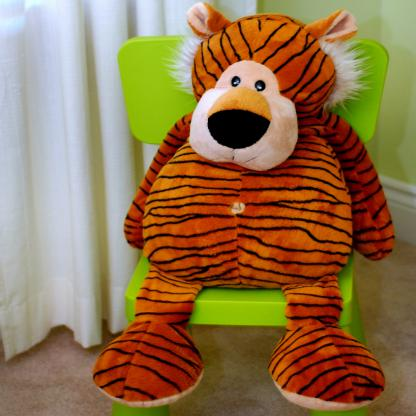Tiger: (93, 2, 396, 411)
